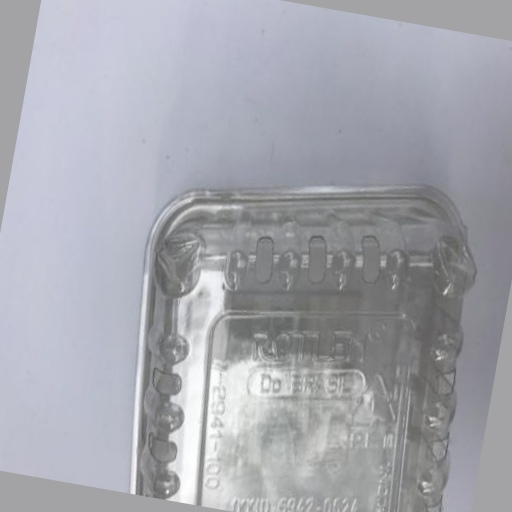Plastic_4: (132, 186, 476, 512)
